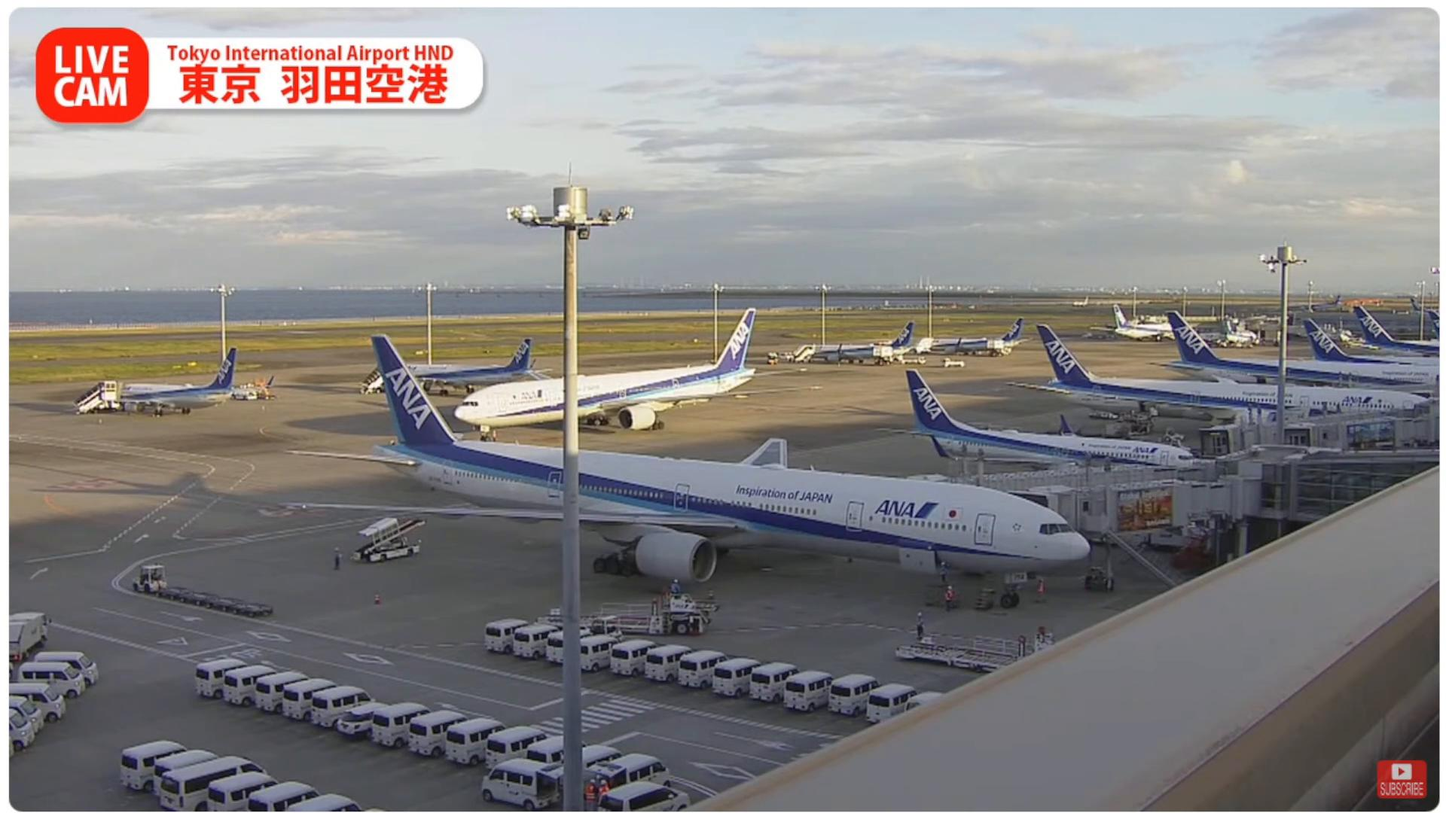Airplane: (279, 333, 1086, 605)
Dolly: (152, 580, 283, 617)
JCPL: (532, 580, 721, 638), (893, 630, 1039, 676)
Skyloader: (353, 515, 429, 558)
Tractor: (134, 564, 168, 598)
